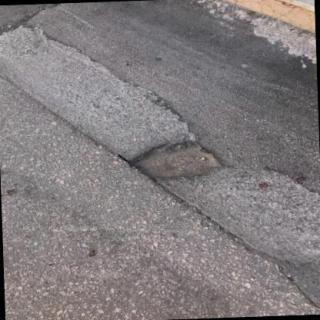pothole: (130, 142, 225, 179)
